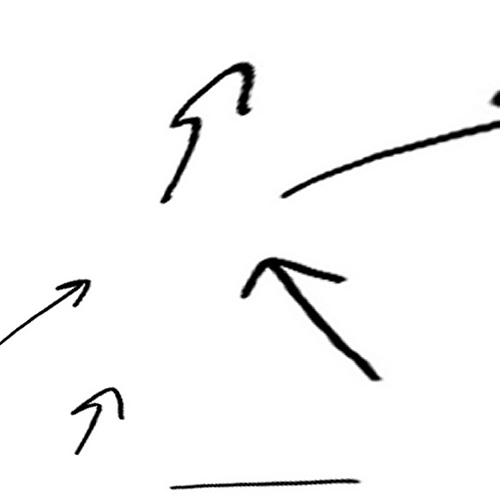arrow: (238, 250, 381, 382), (278, 121, 500, 202), (153, 59, 256, 201), (1, 276, 92, 346), (69, 380, 126, 459), (171, 474, 361, 490)
